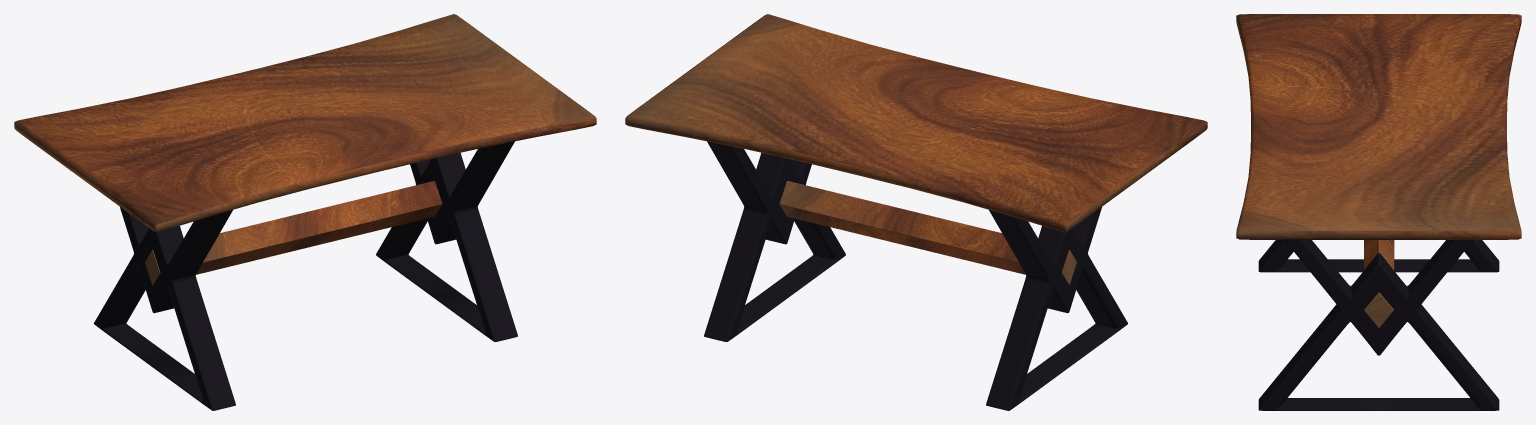
File: TABLE1.fbx
3 views of the same model, side by side, from view 1: azimuth 30°, elevation 25°; view 2: azimuth 150°, elevation 25°; view 3: azimuth 270°, elevation 25° (orthographic).
Parts seen in each view (by area): view 1: Cube.002; view 2: Cube.002; view 3: Cube.002.
Boxes of the visible parts, <box> form: Cube.002: <box>14,14,596,410</box>; Cube.002: <box>625,14,1207,410</box>; Cube.002: <box>1236,14,1521,410</box>.
Size of the model in its own units: 183 by 84.82 by 102.
2 materials, 1 textured.
